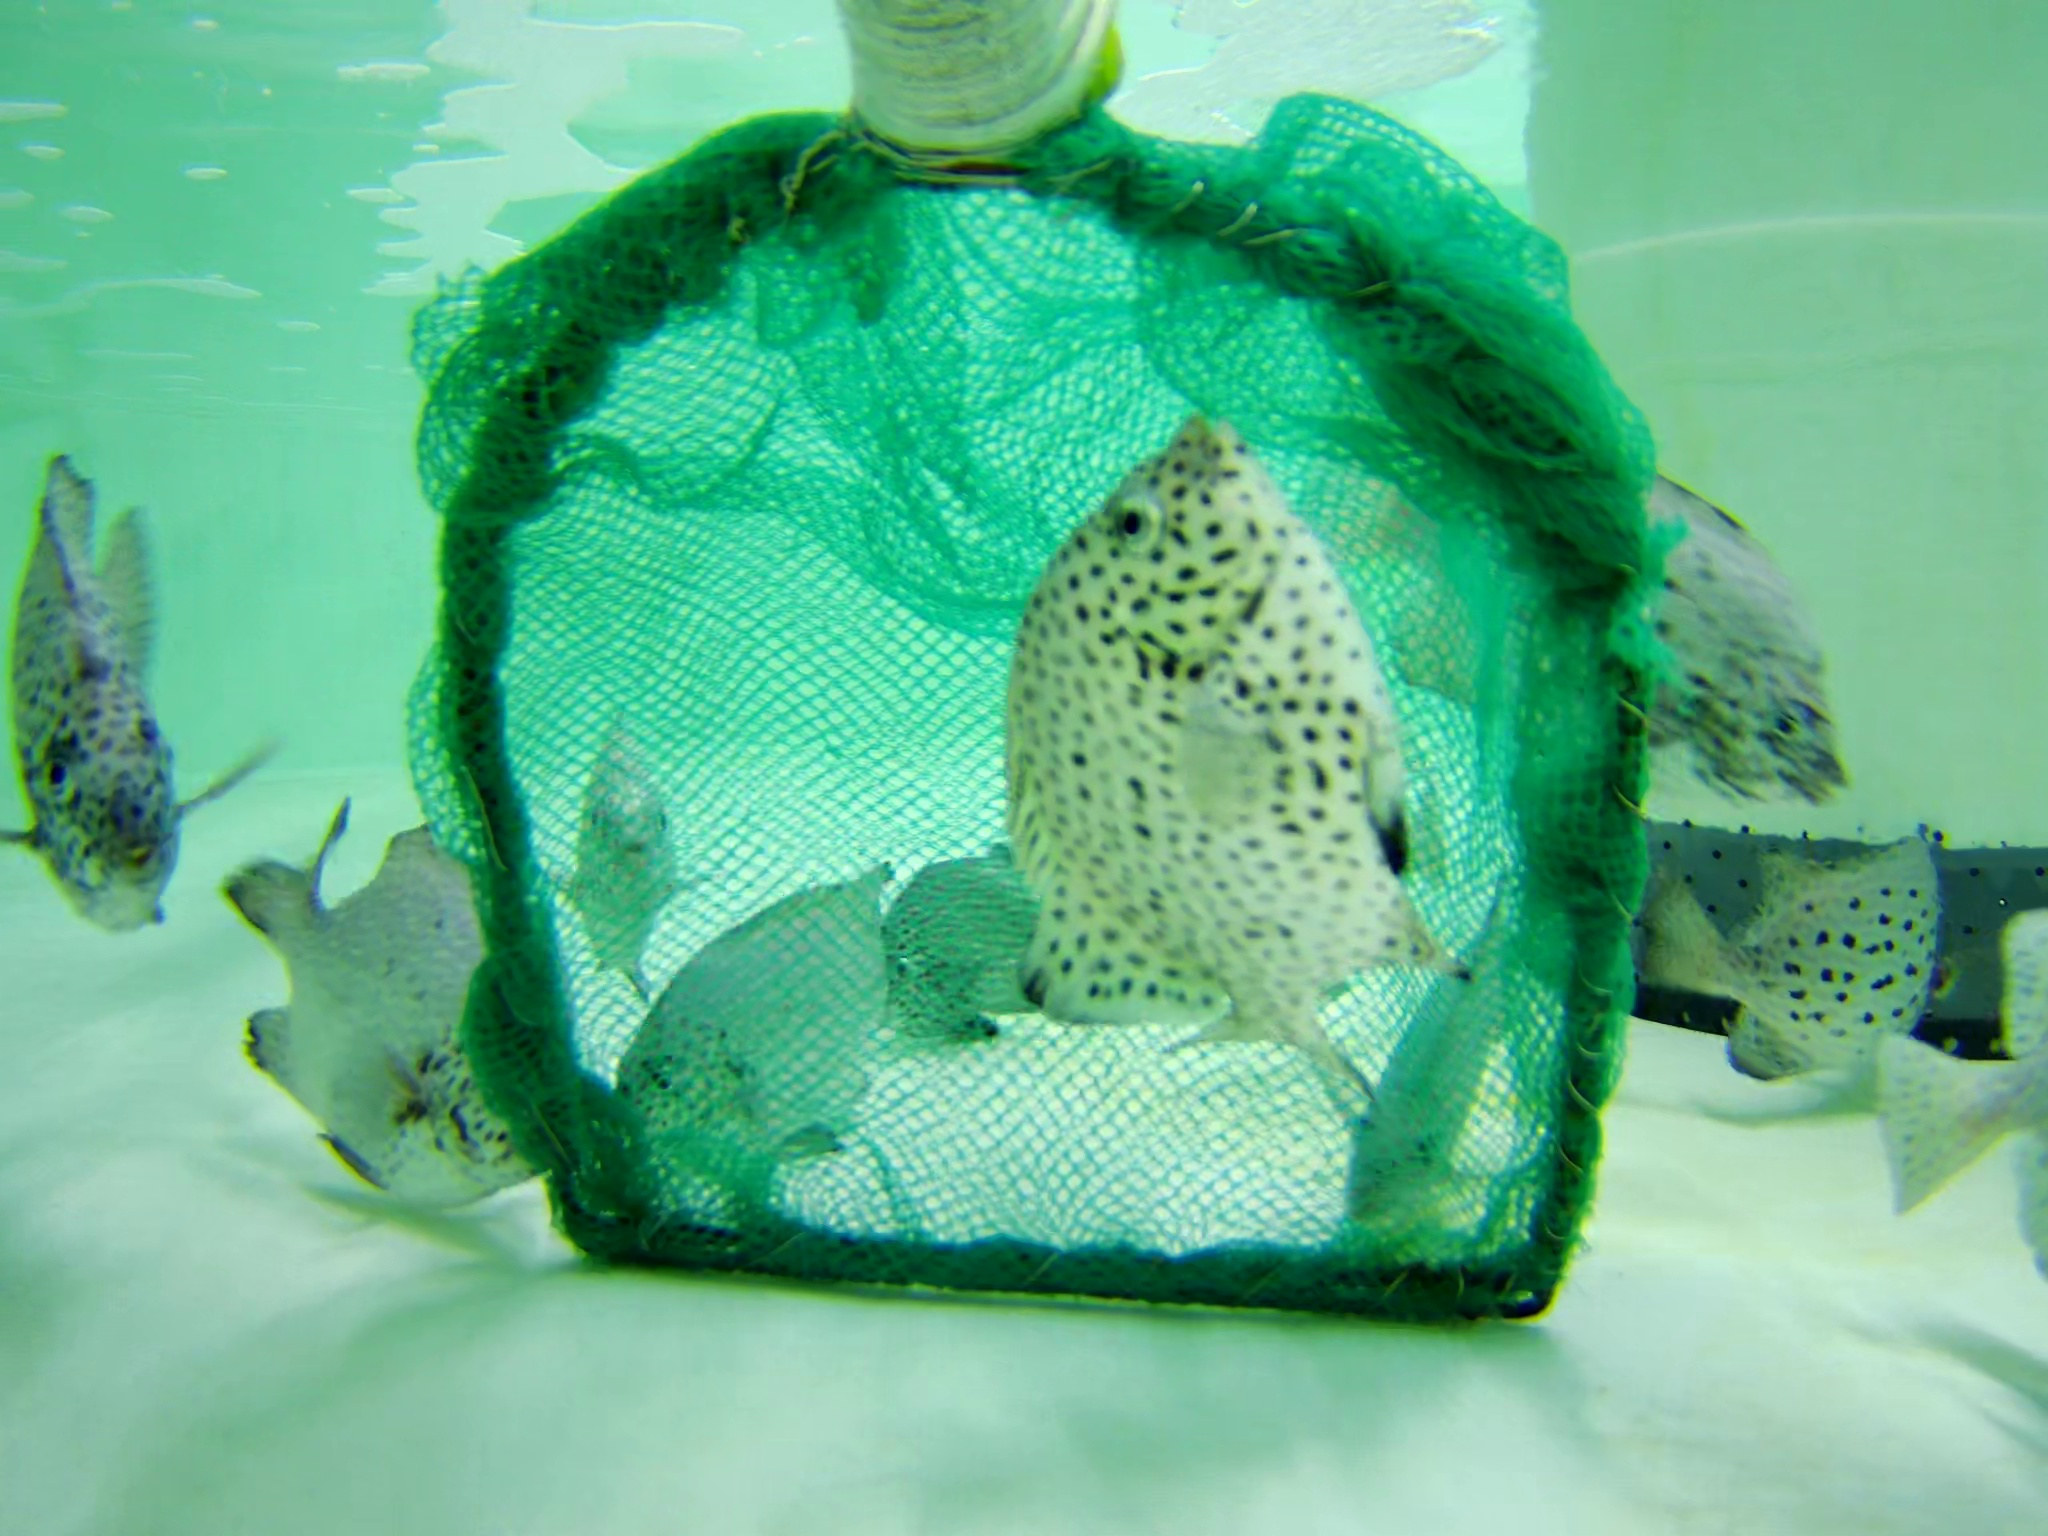fish: (1000, 400, 1453, 1108), (232, 829, 568, 1210), (18, 457, 253, 934), (589, 852, 880, 1223), (1643, 821, 1942, 1102), (1877, 908, 2048, 1265), (868, 847, 1043, 1058), (553, 729, 682, 997)
